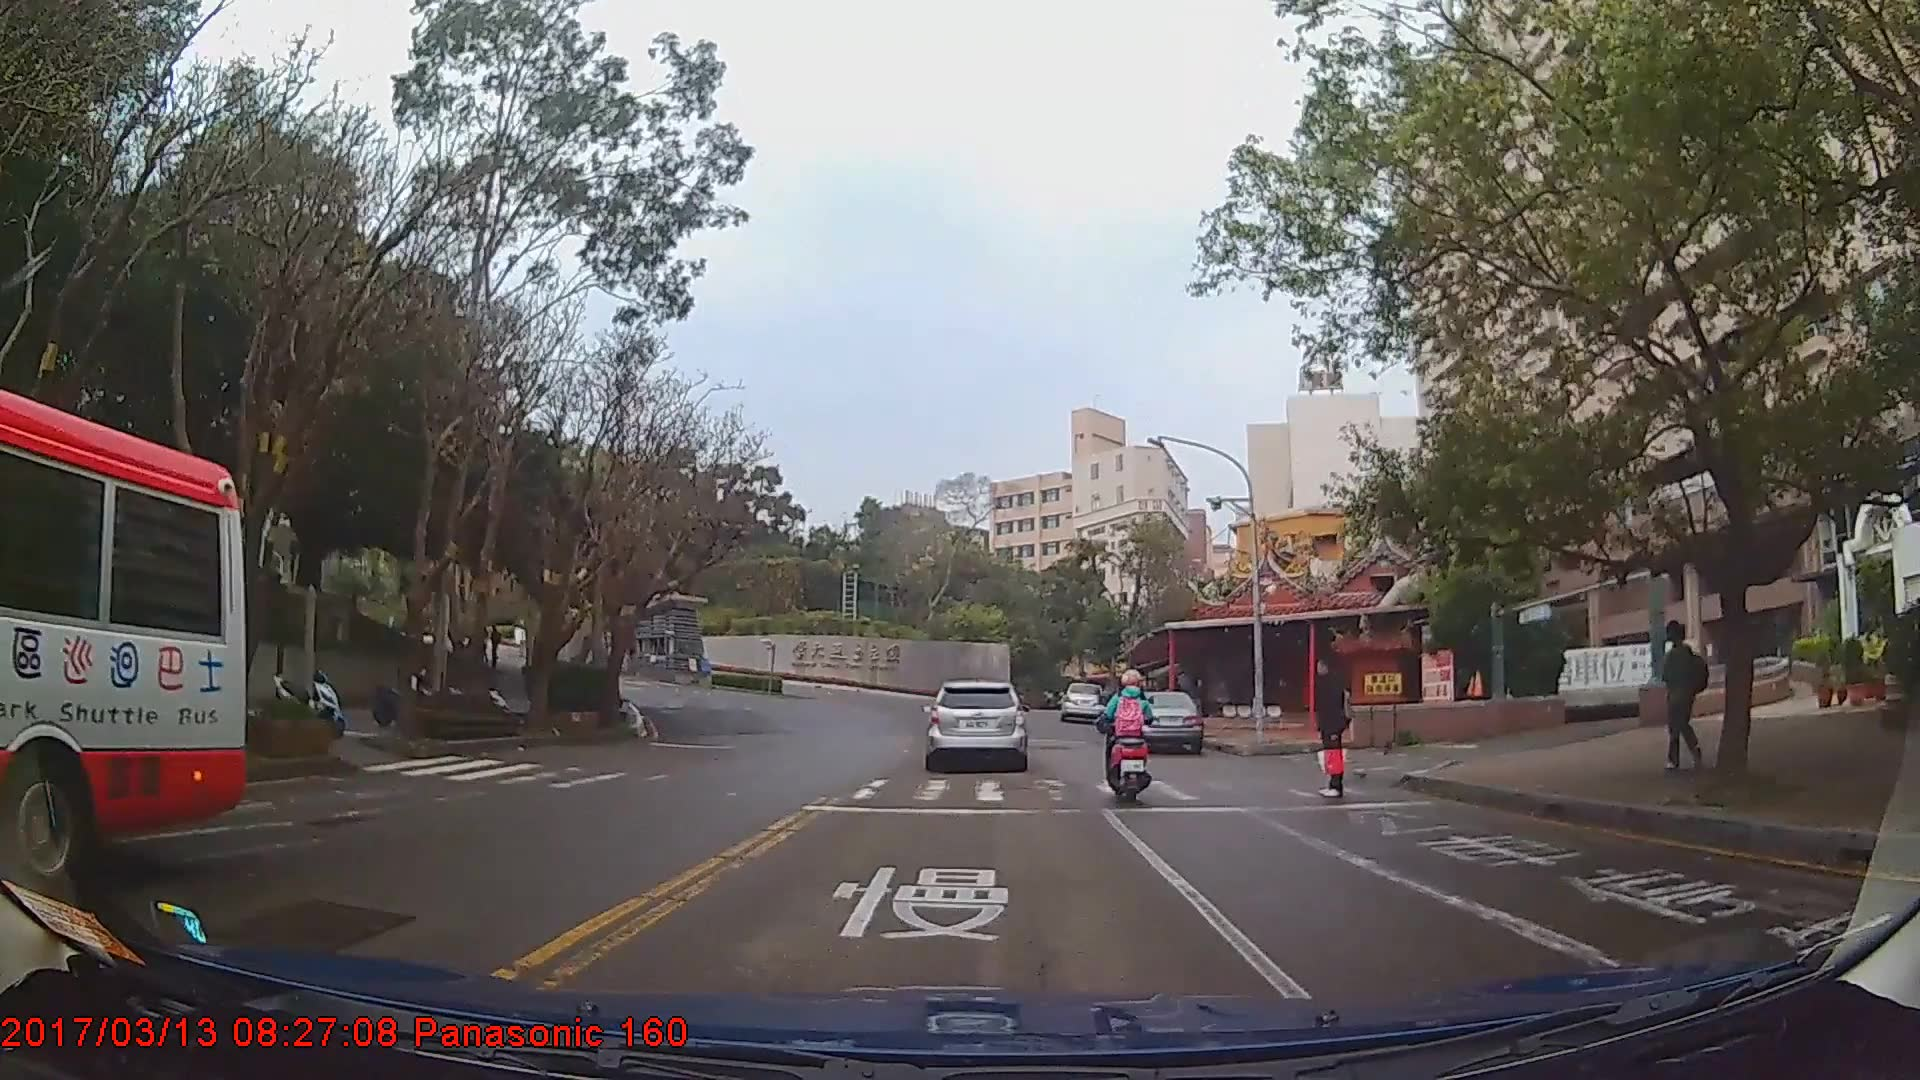pedestrian: (1658, 617, 1711, 767), (1310, 646, 1360, 799)
rider: (1099, 668, 1159, 803)
vehicle: (0, 383, 243, 900), (928, 678, 1028, 773), (1125, 689, 1204, 753), (1061, 679, 1106, 721)
